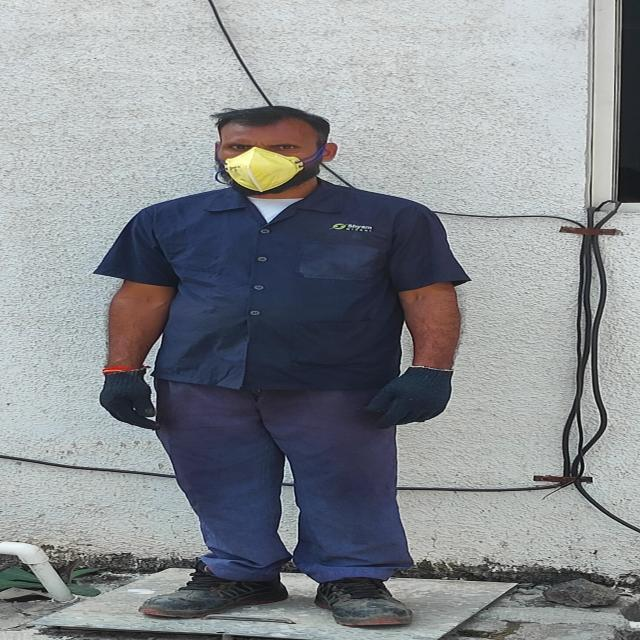Gloves: (364, 365, 455, 426), (99, 367, 162, 427)
